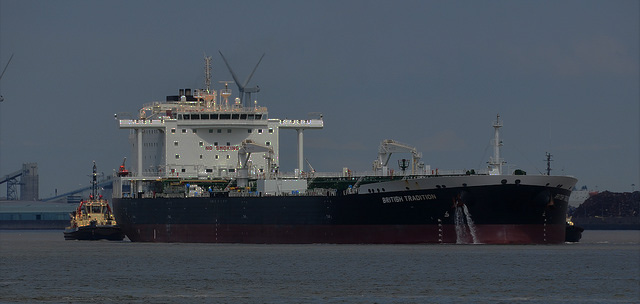tanker: (116, 61, 572, 242)
tug_boat: (60, 160, 123, 240)
